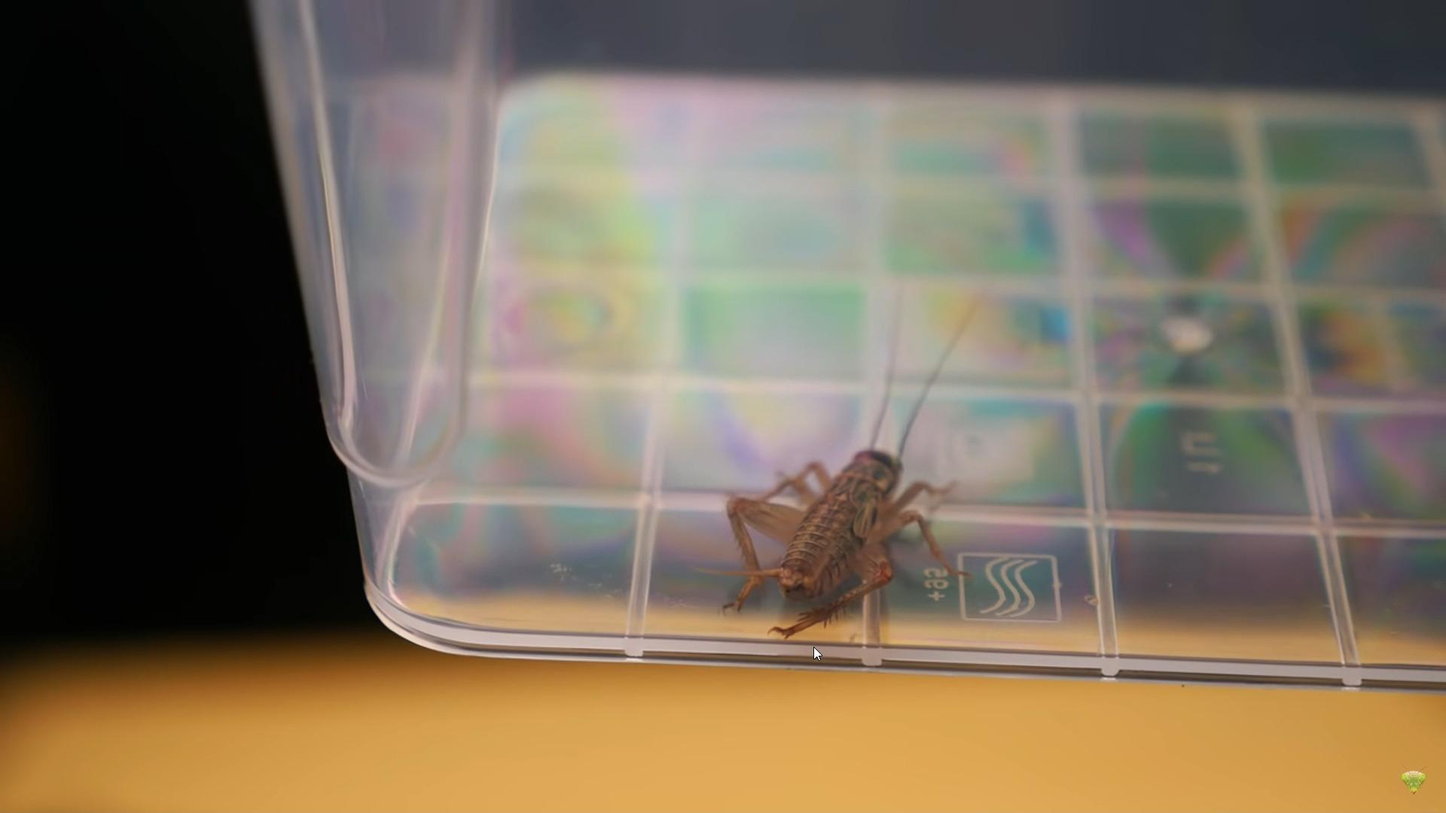cockroach: (711, 395, 966, 642)
